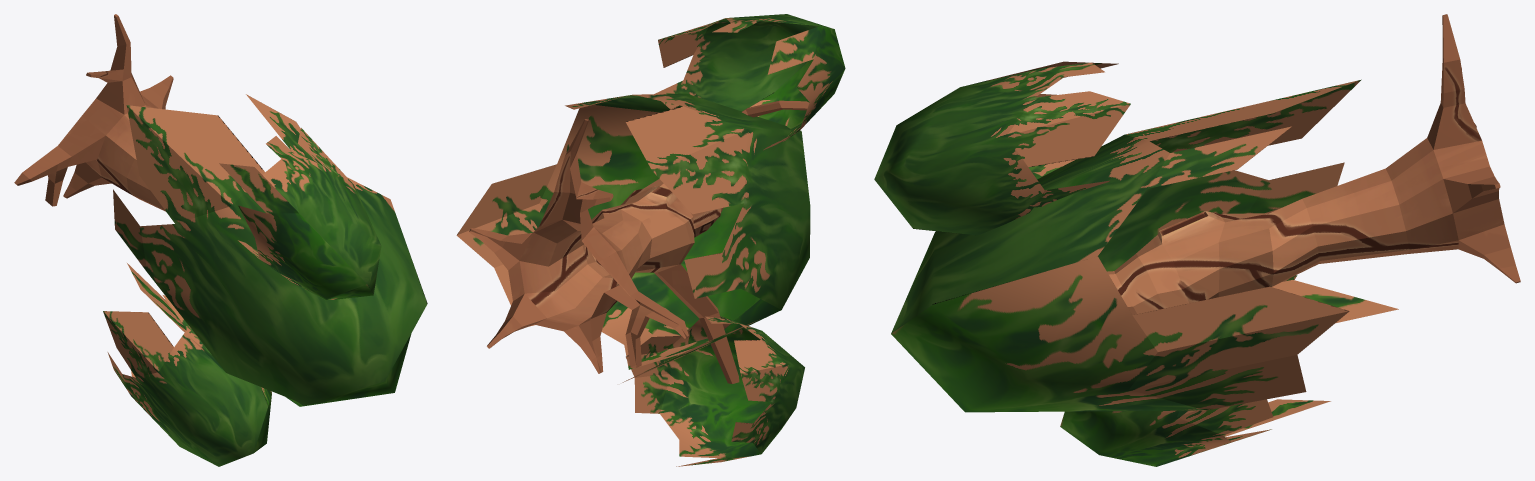
File: Tree1.fbx
The picture shows the model from 3 angles, left to right: view 1: azimuth 30°, elevation 25°; view 2: azimuth 150°, elevation 25°; view 3: azimuth 270°, elevation 25°; orthographic projection. The views are drawn at different scales.
Parts seen in each view (by area): view 1: TreeLeaves1, TreeLeaves3, TreeLeaves2, TreeTrunk; view 2: TreeLeaves1, TreeTrunk, TreeLeaves2, TreeLeaves3; view 3: TreeLeaves1, TreeTrunk, TreeLeaves3, TreeLeaves2.
Boxes of the visible parts, x1=… form: TreeLeaves1: x1=113, y1=94, x2=427, y2=406; TreeLeaves3: x1=219, y1=128, x2=381, y2=300; TreeLeaves2: x1=103, y1=295, x2=271, y2=466; TreeTrunk: x1=14, y1=14, x2=173, y2=211; TreeLeaves1: x1=456, y1=93, x2=810, y2=382; TreeTrunk: x1=469, y1=100, x2=809, y2=383; TreeLeaves2: x1=626, y1=316, x2=804, y2=466; TreeLeaves3: x1=654, y1=14, x2=845, y2=150; TreeLeaves1: x1=891, y1=79, x2=1398, y2=412; TreeTrunk: x1=1107, y1=14, x2=1520, y2=314; TreeLeaves3: x1=874, y1=61, x2=1130, y2=235; TreeLeaves2: x1=1060, y1=275, x2=1330, y2=466.
Size of the model in its own units: 1461 by 2025 by 2606.
Materials: 1 (1 with a texture image).
